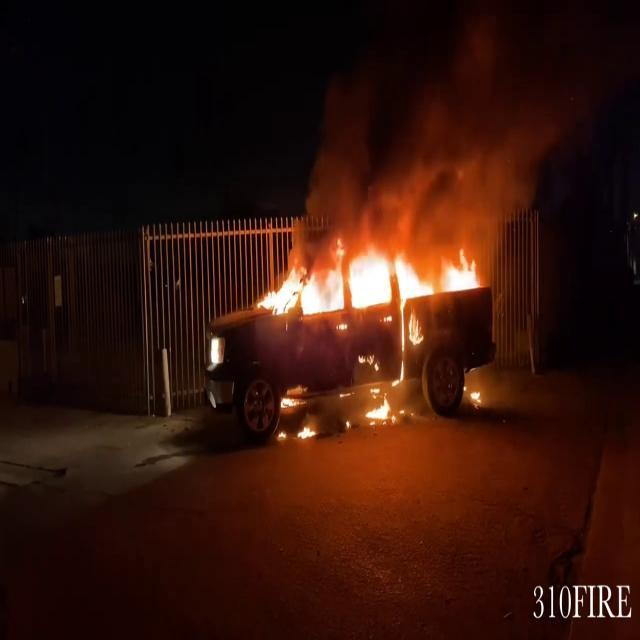Fire: (256, 235, 486, 321)
Smoke: (303, 15, 581, 241)
